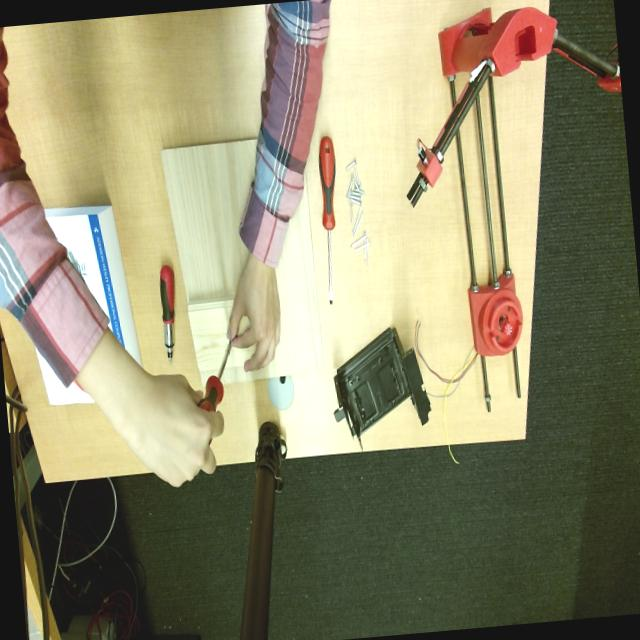screwdriver: (318, 136, 336, 303), (198, 339, 232, 412), (159, 264, 174, 364)
